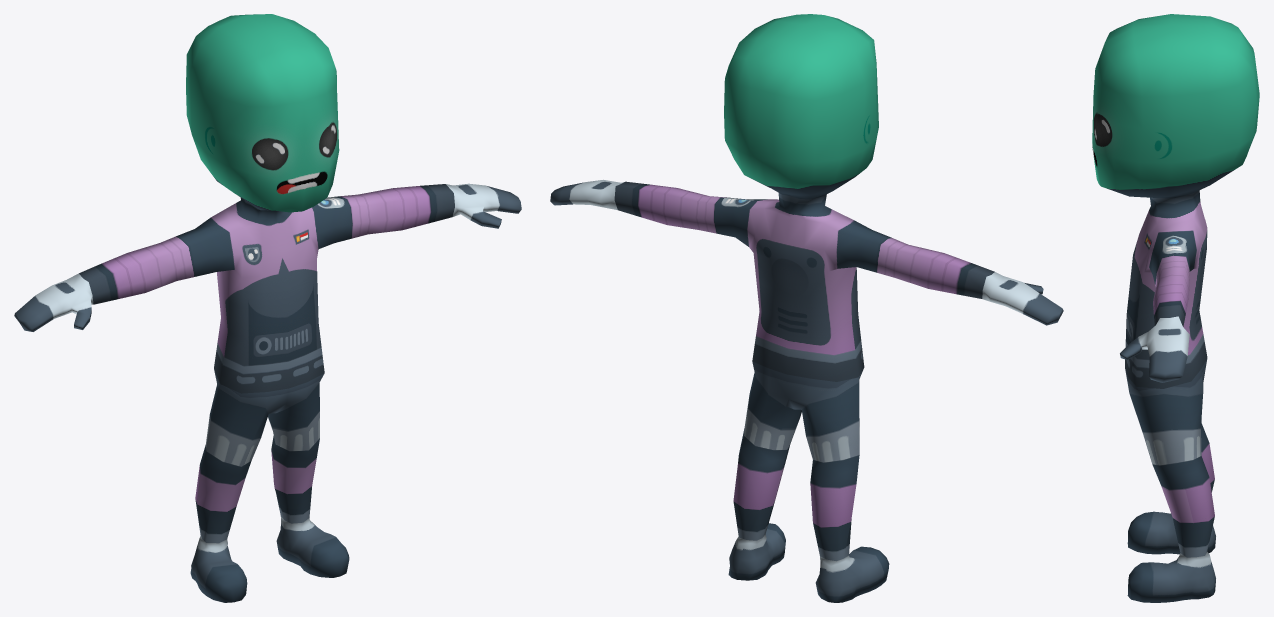
The model's file is utyuuzinnnari.fbx.
3 renders of one model, left to right at view 1: azimuth 30°, elevation 25°; view 2: azimuth 150°, elevation 25°; view 3: azimuth 270°, elevation 25°, orthographic.
Visible parts, largest first — view 1: characterMedium; view 2: characterMedium; view 3: characterMedium.
Part boxes in pixels (x1,y1,x2,y2): characterMedium: [14, 14, 521, 602]; characterMedium: [550, 14, 1063, 602]; characterMedium: [1092, 14, 1259, 602].
Size of the model in its own units: 3.62 by 3.76 by 1.05.
Materials: 1 (1 with a texture image).
